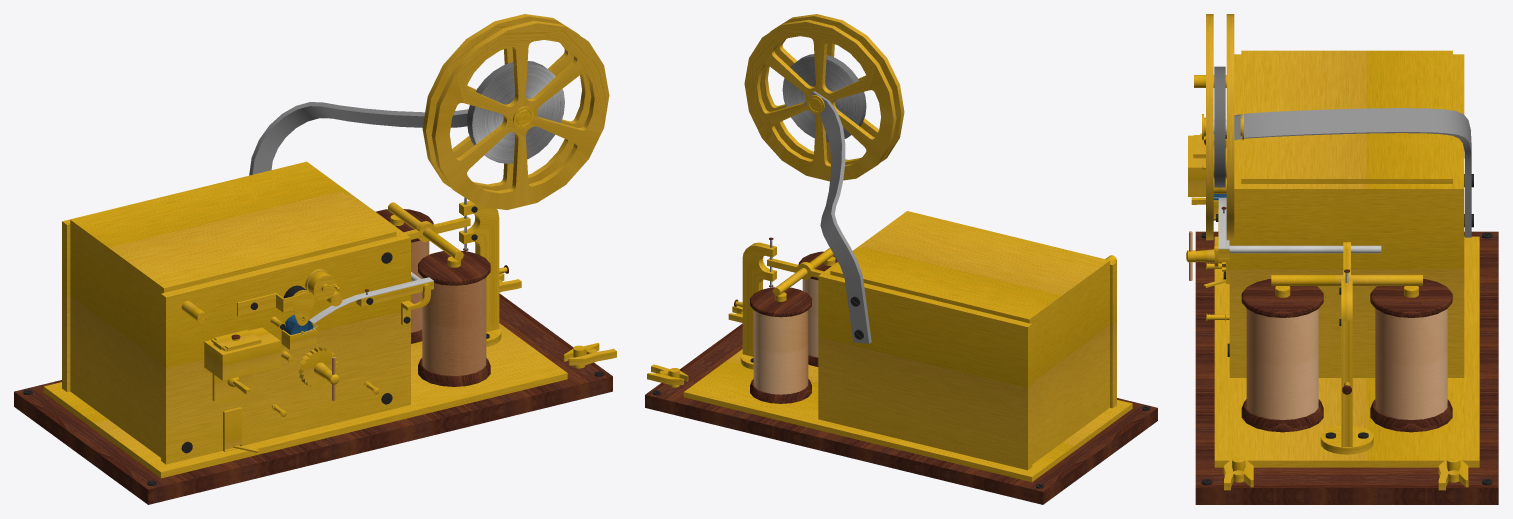
3 renders of one model, left to right at view 1: azimuth 30°, elevation 25°; view 2: azimuth 150°, elevation 25°; view 3: azimuth 270°, elevation 25°, orthographic. The views are drawn at different scales.
Parts seen in each view (by area): view 1: Box002, Box001, Cylinder034, Cylinder041, Cylinder031, Cylinder037, Line001, Box013, Box003, Cylinder055, Cylinder015, Star001 (+8 smaller); view 2: Box002, Box001, Cylinder031, Cylinder057, Line001, Cylinder034, Cylinder037, Box013, Cylinder058, Cylinder041, Cylinder040, Cylinder054; view 3: Box002, Box001, Cylinder041, Cylinder057, Line001, Cylinder055, Cylinder058, Cylinder031, Box013, Cylinder034, Cylinder054, Cylinder037 (+9 smaller).
Part boxes in pixels (box(x1,y1,x2,y2)): Box002: box(43, 161, 567, 478); Box001: box(14, 293, 612, 504); Cylinder034: box(431, 20, 609, 209); Cylinder041: box(422, 277, 486, 375); Cylinder031: box(422, 14, 591, 190); Cylinder037: box(467, 61, 564, 163); Line001: box(249, 102, 468, 175); Box013: box(459, 201, 499, 331); Box003: box(204, 327, 280, 380); Cylinder055: box(418, 251, 490, 285); Cylinder015: box(237, 292, 313, 325); Star001: box(298, 347, 337, 387); Box002: box(683, 211, 1132, 481); Box001: box(645, 323, 1157, 504); Cylinder031: box(744, 20, 896, 181); Cylinder057: box(753, 310, 808, 394); Line001: box(805, 91, 871, 343); Cylinder034: box(760, 14, 904, 164); Cylinder037: box(782, 54, 866, 141); Box013: box(742, 242, 776, 356); Cylinder058: box(750, 287, 811, 317); Cylinder041: box(802, 278, 818, 357); Cylinder040: box(750, 379, 811, 403); Cylinder054: box(773, 248, 833, 295); Box002: box(1214, 50, 1479, 467); Box001: box(1195, 231, 1498, 504); Cylinder041: box(1246, 309, 1318, 419); Cylinder057: box(1375, 309, 1447, 419); Line001: box(1234, 108, 1471, 237); Cylinder055: box(1241, 279, 1323, 317); Cylinder058: box(1370, 279, 1452, 317); Cylinder031: box(1226, 14, 1234, 240); Box013: box(1341, 280, 1352, 446); Cylinder034: box(1206, 14, 1213, 240); Cylinder054: box(1271, 274, 1422, 285); Cylinder037: box(1214, 66, 1225, 187).
Bounding box in the file's own units: 166 × 126 × 82.43.
